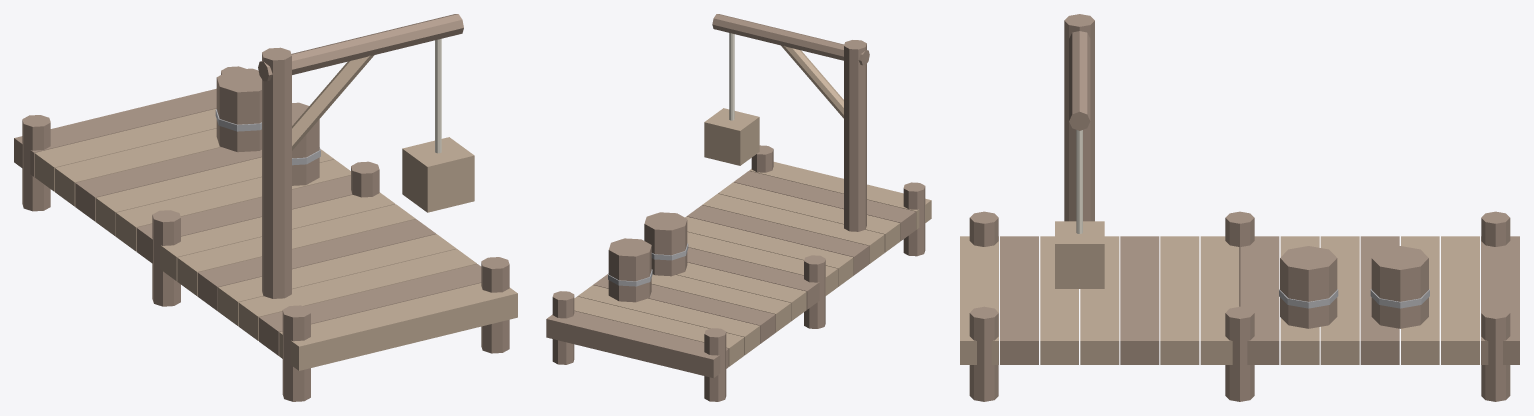
File: bld_harbor.glb
3 renders of one model, left to right at view 1: azimuth 30°, elevation 25°; view 2: azimuth 150°, elevation 25°; view 3: azimuth 270°, elevation 25°, orthographic. The views are drawn at different scales.
Visible parts, largest first — view 1: bld_harbor_917154, bld_harbor_705443, bld_harbor_E6D9BC, bld_harbor_85858A; view 2: bld_harbor_705443, bld_harbor_917154, bld_harbor_E6D9BC, bld_harbor_85858A; view 3: bld_harbor_705443, bld_harbor_917154, bld_harbor_85858A, bld_harbor_E6D9BC.
Boxes of the visible parts, x1,y1,x2,y2 form: bld_harbor_917154: [34, 55, 517, 370]; bld_harbor_705443: [14, 14, 509, 401]; bld_harbor_E6D9BC: [435, 39, 441, 153]; bld_harbor_85858A: [215, 109, 320, 165]; bld_harbor_705443: [546, 14, 925, 401]; bld_harbor_917154: [574, 45, 931, 366]; bld_harbor_E6D9BC: [729, 33, 734, 120]; bld_harbor_85858A: [608, 243, 688, 286]; bld_harbor_705443: [969, 14, 1519, 401]; bld_harbor_917154: [960, 221, 1479, 364]; bld_harbor_85858A: [1279, 289, 1429, 308]; bld_harbor_E6D9BC: [1076, 130, 1082, 233].
Size of the model in its own units: 0.673 by 0.85 by 1.47.
